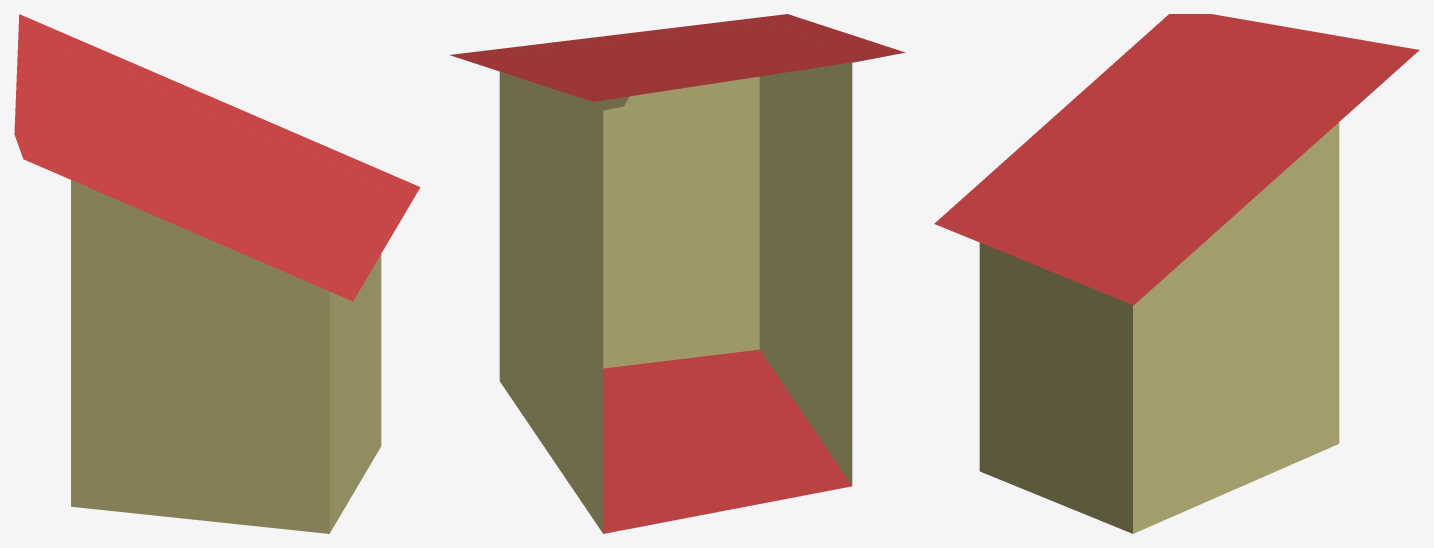
3 views of the same model, side by side, from view 1: azimuth 30°, elevation 25°; view 2: azimuth 150°, elevation 25°; view 3: azimuth 270°, elevation 25° (orthographic). The views are drawn at different scales.
Bounding box in the file's own units: 10.17 × 11.33 × 9.73.
